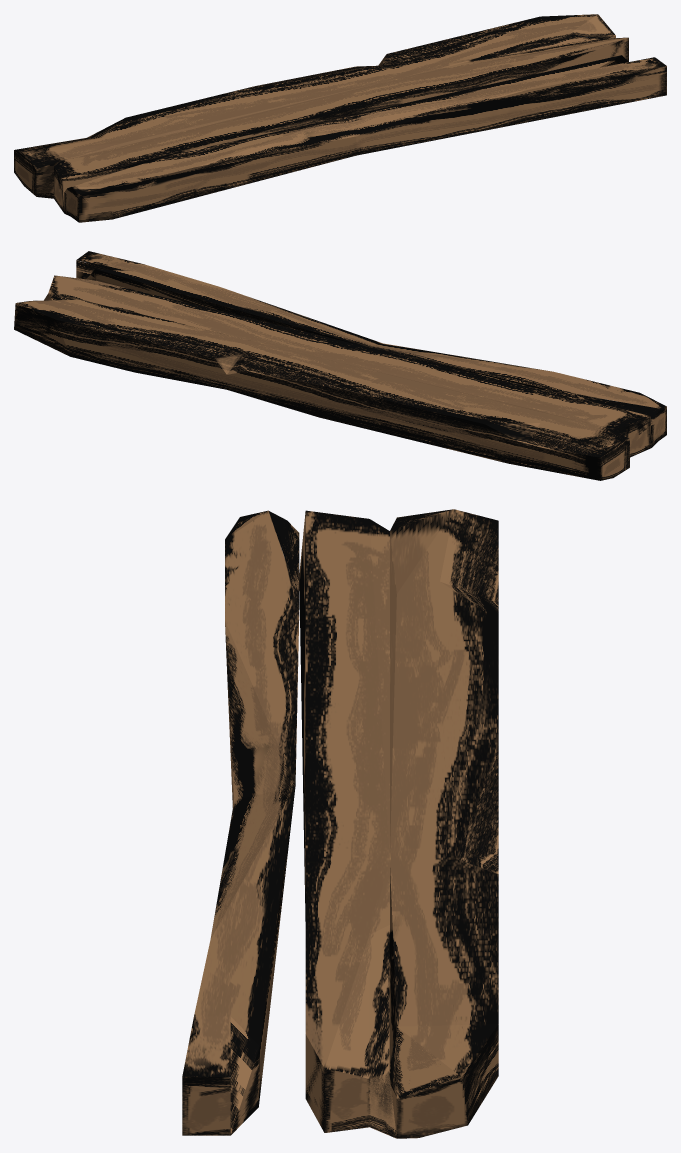
File: Plank1.fbx
3 renders of one model, top to bottom at view 1: azimuth 30°, elevation 25°; view 2: azimuth 150°, elevation 25°; view 3: azimuth 270°, elevation 25°, orthographic. The views are drawn at different scales.
Parts seen in each view (by area): view 1: Cube.005; view 2: Cube.005; view 3: Cube.005.
Part boxes in pixels (x1=…): Cube.005: x1=14, y1=14, x2=666, y2=222; Cube.005: x1=14, y1=251, x2=666, y2=480; Cube.005: x1=182, y1=509, x2=498, y2=1138.
Bounding box in the file's own units: 928 × 50.38 × 220.
1 material, 1 textured.
